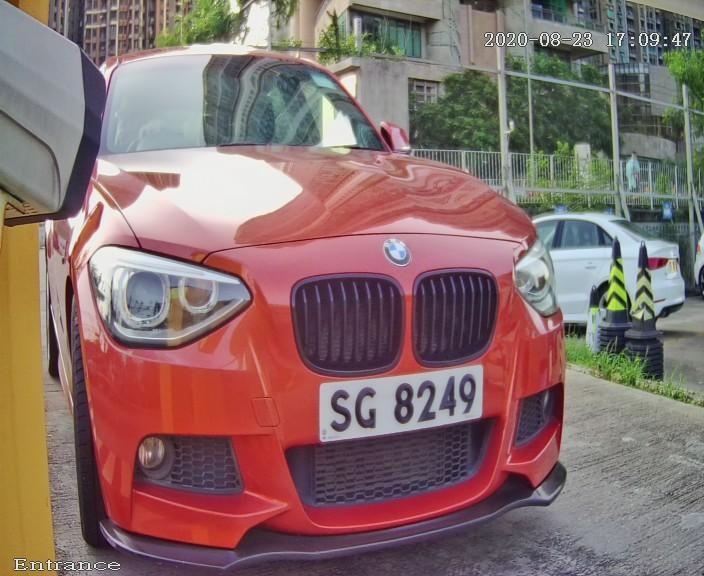Car: (45, 1, 620, 571)
License Plate: (281, 327, 515, 474)
